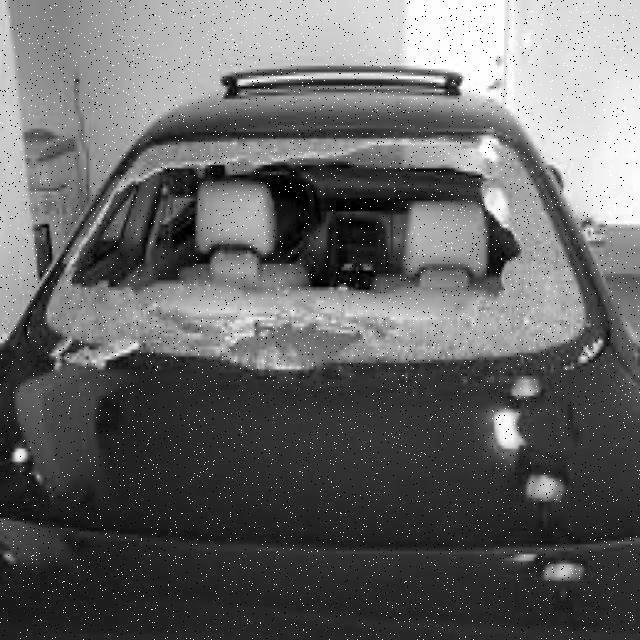Rear-windscreen-Damage: (18, 117, 611, 410)
